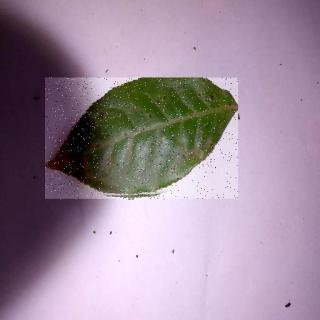Bird Eye Spot: (46, 79, 239, 201)
